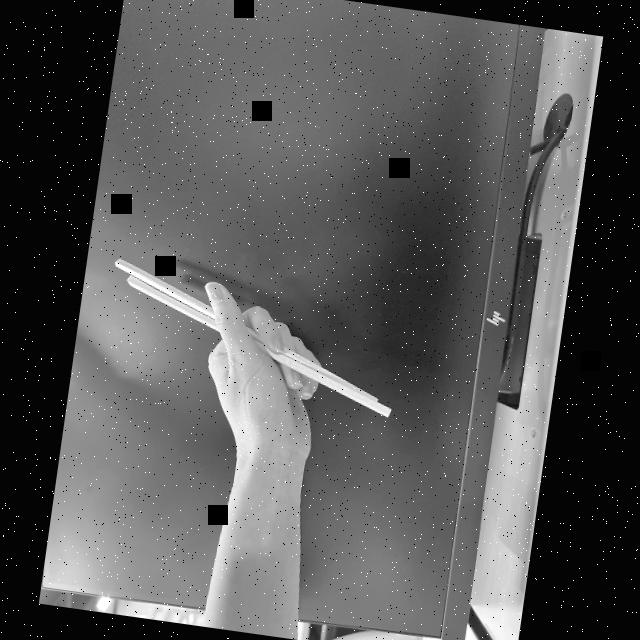stick: (95, 256, 406, 427)
